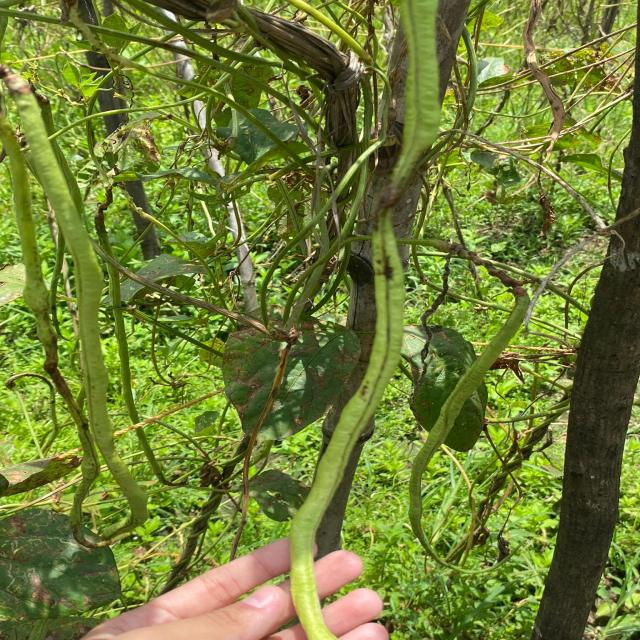leaf-moderate: (258, 318, 360, 441), (222, 328, 288, 436)
